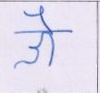au_matra: (29, 6, 60, 64)
